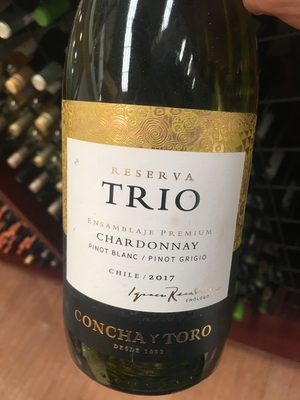trio chardonnay: (50, 17, 266, 400)
